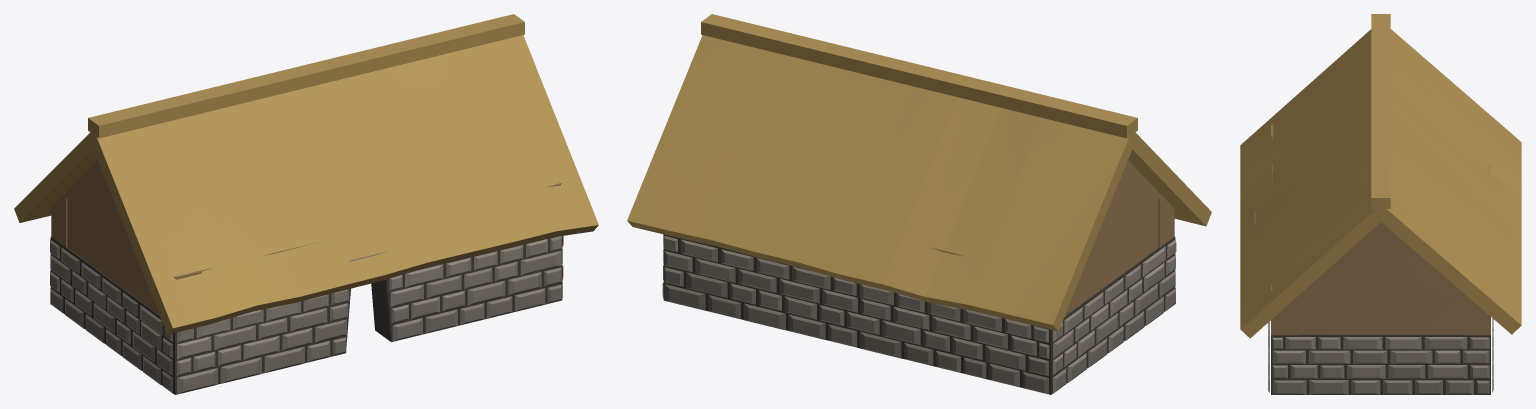
File: cusco_wasi_lod0.glb
The picture shows the model from 3 angles, left to right: view 1: azimuth 30°, elevation 25°; view 2: azimuth 150°, elevation 25°; view 3: azimuth 270°, elevation 25°; orthographic projection. The views are drawn at different scales.
Visible parts, largest first — view 1: GEO-Arch_cusco_wasi_LOD0; view 2: GEO-Arch_cusco_wasi_LOD0; view 3: GEO-Arch_cusco_wasi_LOD0.
Part boxes in pixels (bbox=[...]): GEO-Arch_cusco_wasi_LOD0: bbox=[14, 14, 598, 394]; GEO-Arch_cusco_wasi_LOD0: bbox=[627, 14, 1211, 394]; GEO-Arch_cusco_wasi_LOD0: bbox=[1240, 14, 1521, 394].
Size of the model in its own units: 9.9 by 5.16 by 6.4.
